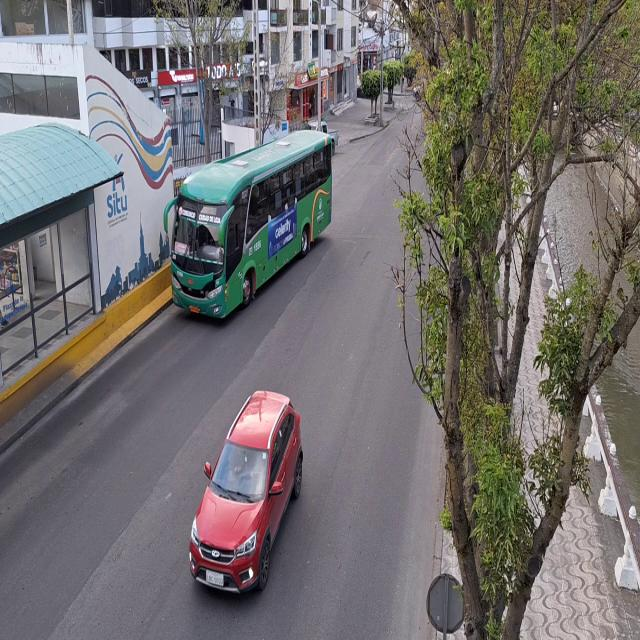BUS: (165, 136, 329, 327)
SUV: (188, 388, 305, 596)
